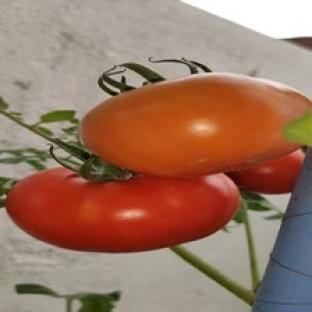Tomato: (80, 73, 311, 176), (6, 168, 239, 252), (229, 150, 305, 193)
